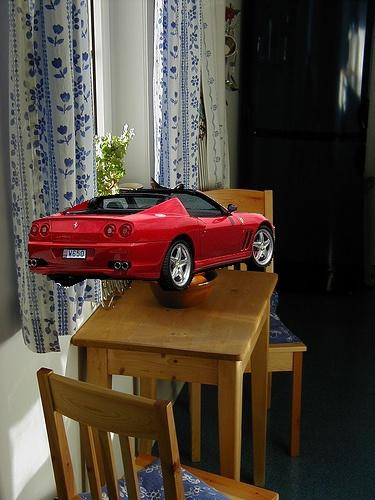tampered: (29, 189, 275, 291)
